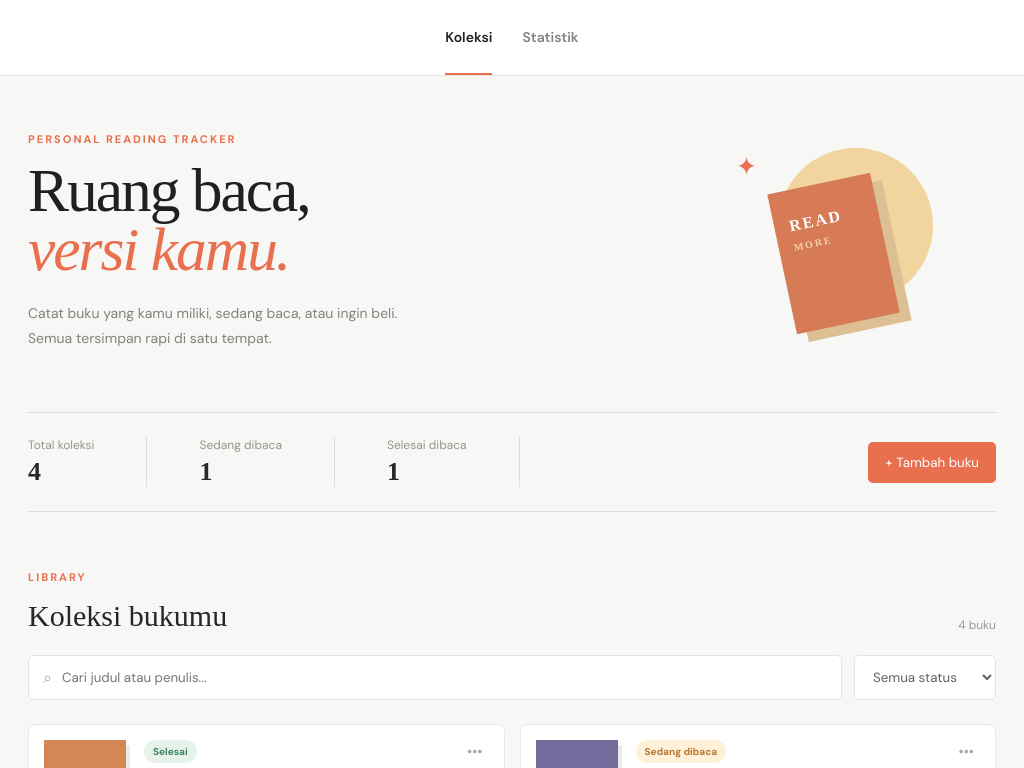
Test: BookShelf app › menampilkan pesan validasi saat form kosong
What coordinates should you click on to do the following:
click the button "+ Tambah buku"
I would click on:
 (932, 462)
Its box is x1=868 y1=442 x2=996 y2=482.
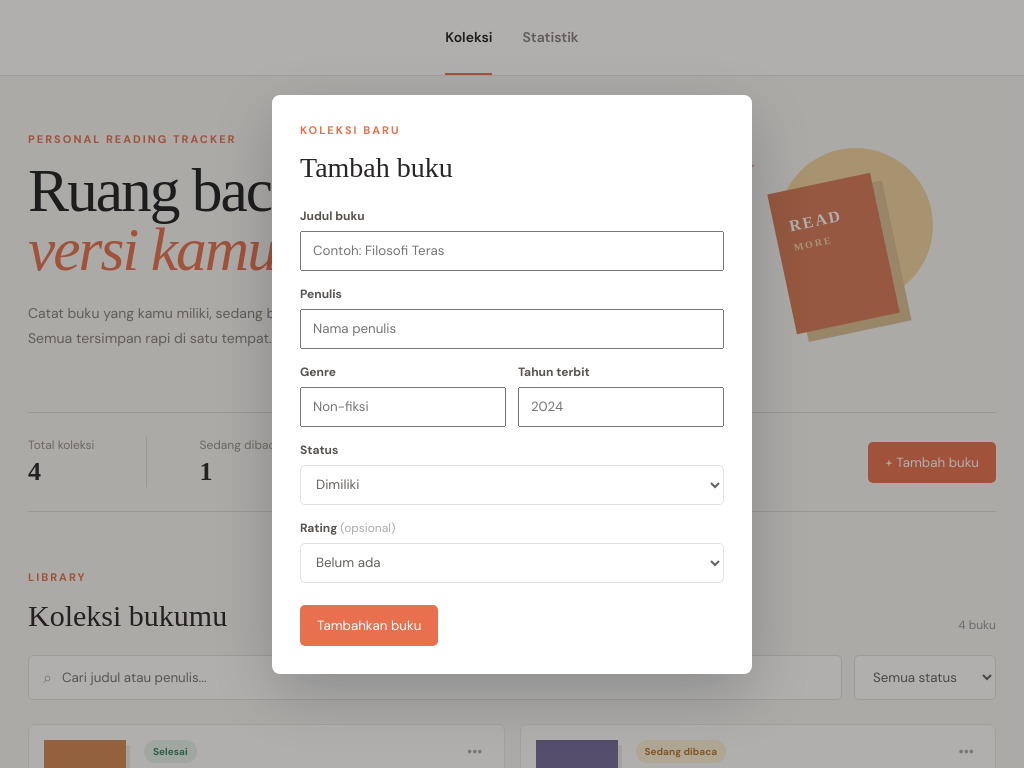
What coordinates should you click on to do the following:
click the button "Tambahkan buku"
I would click on:
 (369, 625)
Its box is x1=300 y1=604 x2=438 y2=646.
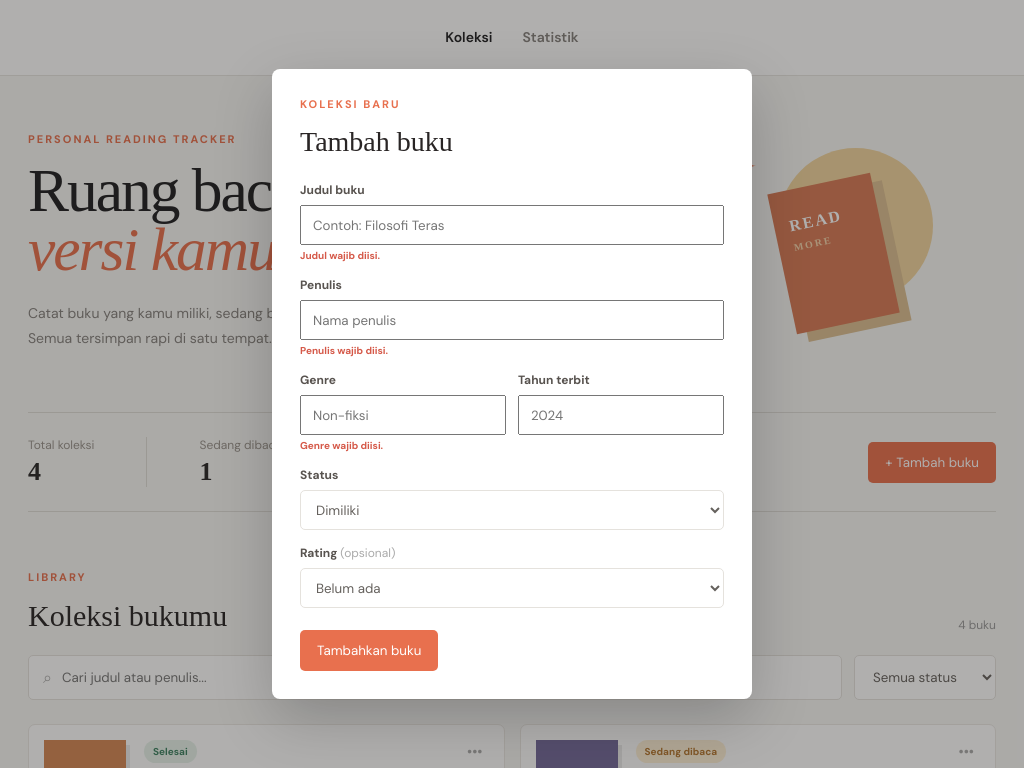
Result: the text "Judul wajib diisi." is shown at x1=300 y1=249 x2=380 y2=262
Result: the text "Penulis wajib diisi." is shown at x1=300 y1=344 x2=388 y2=357
